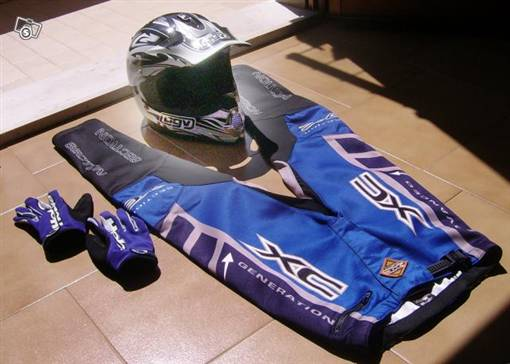helmet: (121, 15, 249, 142)
